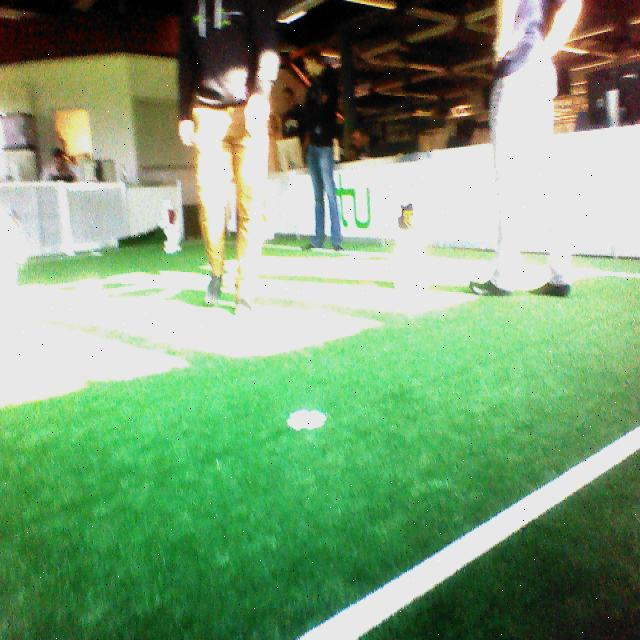goalpost: (54, 184, 74, 257)
